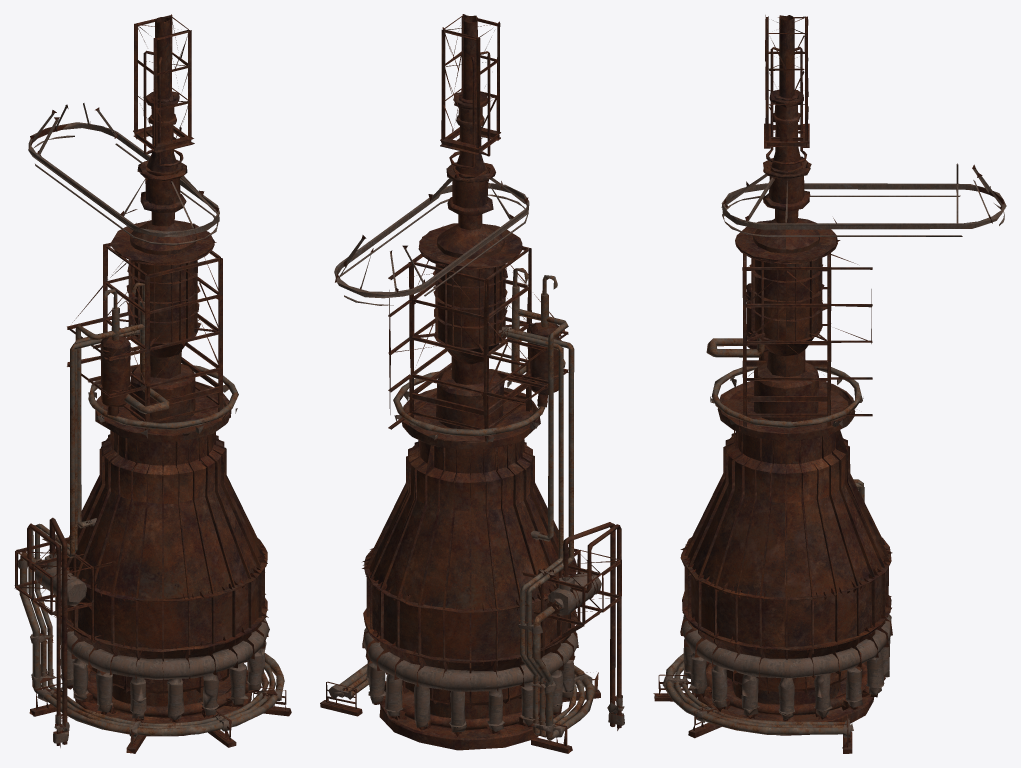
The model's file is SM_SmokePipes_02.fbx.
3 views of the same model, side by side, from view 1: azimuth 30°, elevation 25°; view 2: azimuth 150°, elevation 25°; view 3: azimuth 270°, elevation 25° (orthographic).
Visible parts, largest first — view 1: SM_SmokePipes_02_LOD0; view 2: SM_SmokePipes_02_LOD0; view 3: SM_SmokePipes_02_LOD0.
Part boxes in pixels (bbox=[...]): SM_SmokePipes_02_LOD0: bbox=[14, 14, 291, 753]; SM_SmokePipes_02_LOD0: bbox=[320, 14, 624, 753]; SM_SmokePipes_02_LOD0: bbox=[653, 15, 1006, 753].
Size of the model in its own units: 336 by 419 by 899.
1 material, 1 textured.
